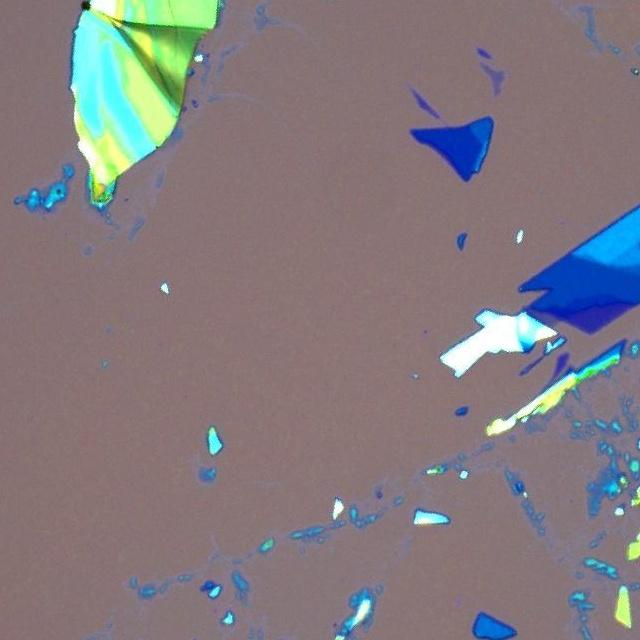monolayer-eWW4: (478, 60, 508, 100)
